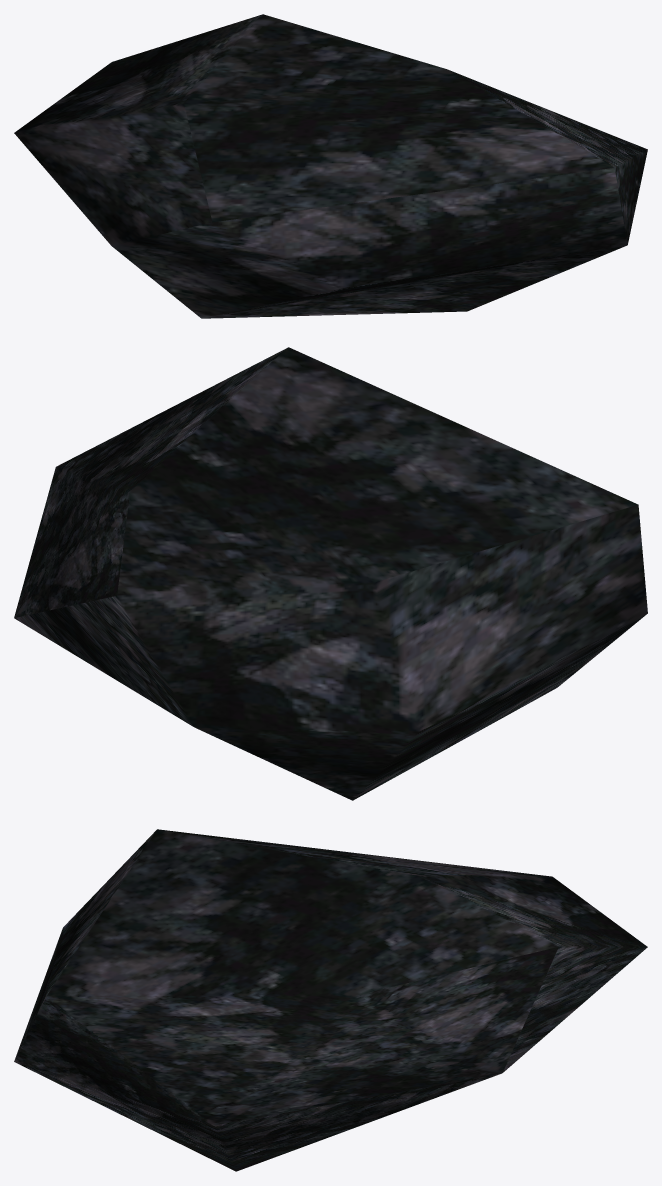
File: asteroid_obsidian_radial_s01_l3.fbx
The picture shows the model from 3 angles, top to bottom: view 1: azimuth 30°, elevation 25°; view 2: azimuth 150°, elevation 25°; view 3: azimuth 270°, elevation 25°; orthographic projection. The views are drawn at different scales.
Visible parts, largest first — view 1: mesh_node; view 2: mesh_node; view 3: mesh_node.
Part boxes in pixels (left/top/right/bottom): mesh_node: left=14, top=14, right=647, bottom=318; mesh_node: left=14, top=347, right=647, bottom=800; mesh_node: left=14, top=829, right=647, bottom=1171.
Bounding box in the file's own units: 5.04 × 1.84 × 5.18.
Materials: 1 (1 with a texture image).
